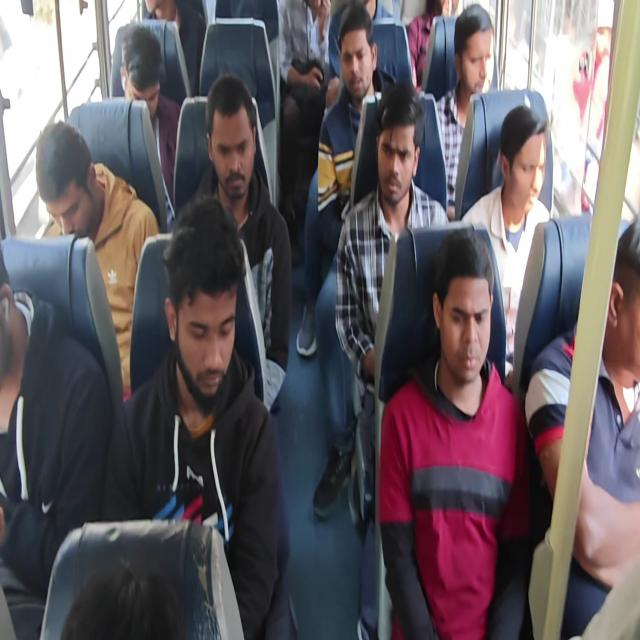person: (2, 1, 638, 638), (103, 194, 296, 638), (334, 81, 449, 638), (378, 228, 531, 638), (524, 215, 640, 638), (0, 282, 112, 638), (296, 3, 397, 357), (35, 119, 160, 400), (190, 74, 292, 414), (461, 104, 551, 380), (434, 2, 494, 220), (118, 23, 181, 225), (277, 0, 333, 222), (59, 563, 184, 639), (327, 0, 414, 92), (142, 0, 205, 96), (407, 0, 459, 91)
